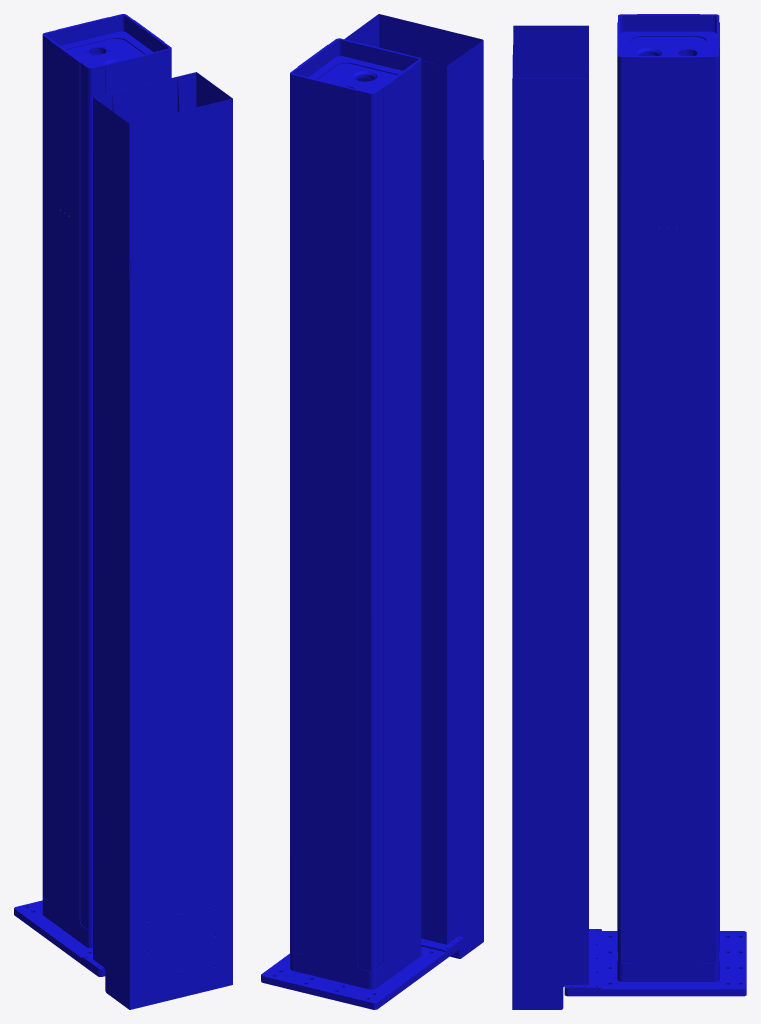
File: z_axis3.dae
3 renders of one model, left to right at view 1: azimuth 30°, elevation 25°; view 2: azimuth 150°, elevation 25°; view 3: azimuth 270°, elevation 25°, orthographic. The views are drawn at different scales.
Parts seen in each view (by area): view 1: Z AXIS-3; view 2: Z AXIS-3; view 3: Z AXIS-3.
Part boxes in pixels (x1,y1,x2,y2): Z AXIS-3: (14, 14, 232, 1009); Z AXIS-3: (261, 14, 483, 1009); Z AXIS-3: (512, 14, 746, 1009).
Size of the model in its own units: 0.054 by 0.0915 by 0.408.
